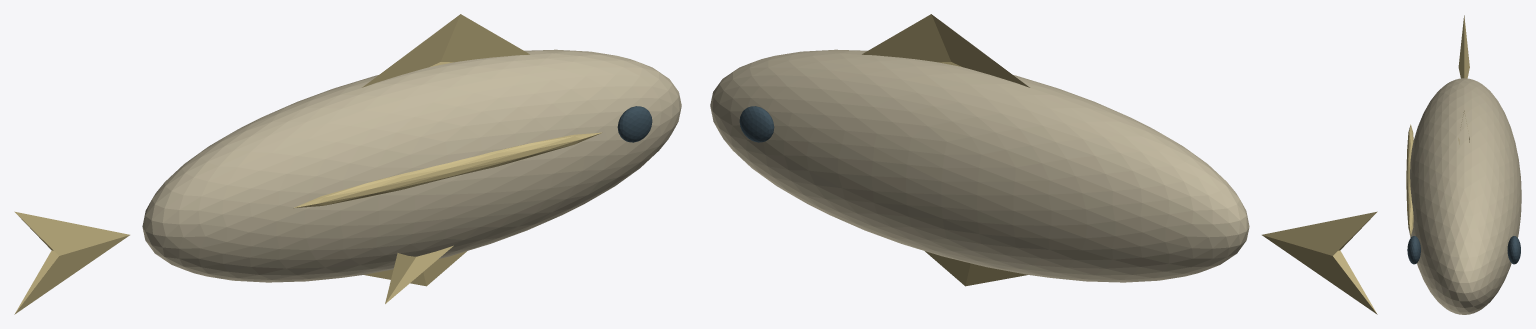
The model's file is Ikan_Jenahak.glb.
The picture shows the model from 3 angles, left to right: view 1: azimuth 30°, elevation 25°; view 2: azimuth 150°, elevation 25°; view 3: azimuth 270°, elevation 25°; orthographic projection. The views are drawn at different scales.
Visible parts, largest first — view 1: Part_00, Part_01, Part_07, Part_02, Part_04, Part_05, Part_03; view 2: Part_00, Part_01, Part_02, Part_03, Part_06; view 3: Part_00, Part_07, Part_01, Part_05, Part_06.
Boxes of the visible parts, box(x1,y1,x2,y2) form: Part_00: box(142, 49, 681, 282); Part_01: box(14, 211, 129, 314); Part_07: box(293, 132, 602, 208); Part_02: box(362, 14, 529, 87); Part_04: box(385, 245, 453, 303); Part_05: box(617, 106, 652, 142); Part_03: box(364, 251, 466, 286); Part_00: box(710, 49, 1249, 282); Part_01: box(1262, 211, 1377, 314); Part_02: box(862, 14, 1029, 87); Part_03: box(925, 251, 1027, 286); Part_06: box(739, 106, 774, 142); Part_00: box(1409, 78, 1521, 314); Part_07: box(1406, 124, 1413, 235); Part_01: box(1458, 15, 1469, 78); Part_05: box(1407, 236, 1420, 264); Part_06: box(1507, 236, 1520, 264).
Size of the model in its own units: 1.51 by 0.572 by 0.3054.
